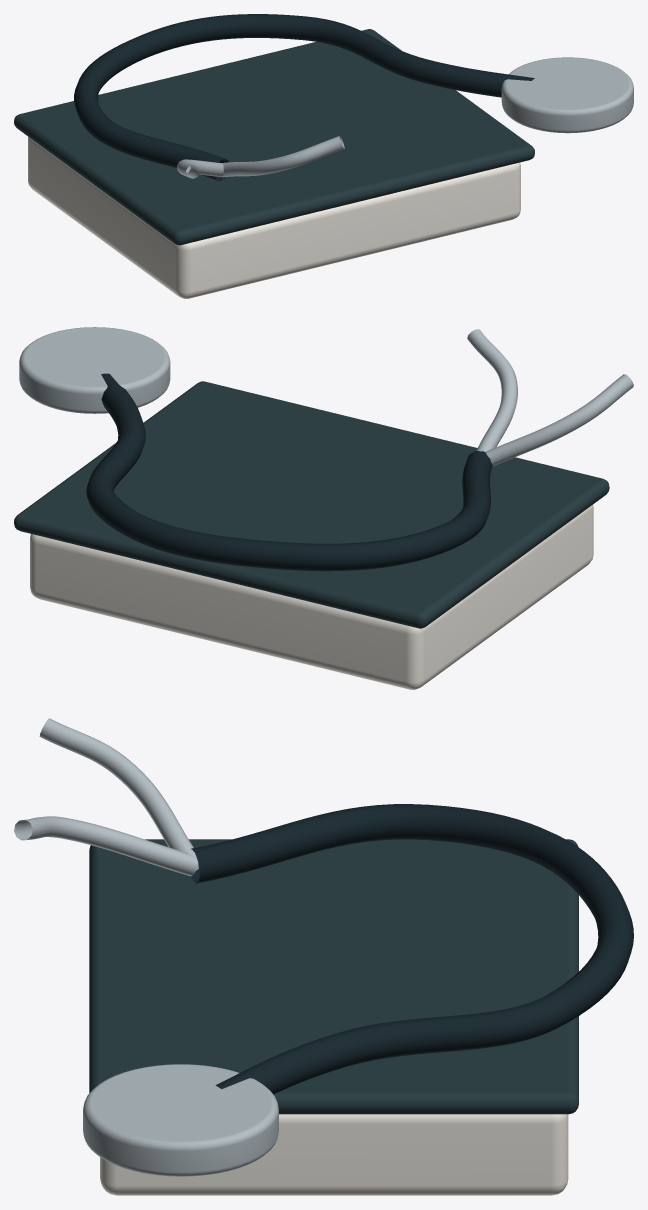
File: entry-medical.glb
3 renders of one model, top to bottom at view 1: azimuth 30°, elevation 25°; view 2: azimuth 150°, elevation 25°; view 3: azimuth 270°, elevation 25°, orthographic. The views are drawn at different scales.
Visible parts, largest first — view 1: Teal notebook cover, Clinical notebook, Stethoscope tube, Stethoscope chest piece, Ear tube left, Ear tube right; view 2: Teal notebook cover, Clinical notebook, Stethoscope tube, Stethoscope chest piece, Ear tube right, Ear tube left; view 3: Teal notebook cover, Stethoscope tube, Clinical notebook, Stethoscope chest piece, Ear tube right, Ear tube left.
Boxes of the visible parts, x1=… form: Teal notebook cover: x1=14, y1=29, x2=534, y2=245; Clinical notebook: x1=28, y1=137, x2=520, y2=298; Stethoscope tube: x1=74, y1=14, x2=534, y2=181; Stethoscope chest piece: x1=501, y1=57, x2=633, y2=133; Ear tube left: x1=222, y1=136, x2=344, y2=177; Ear tube right: x1=177, y1=159, x2=223, y2=178; Teal notebook cover: x1=14, y1=381, x2=609, y2=628; Clinical notebook: x1=30, y1=505, x2=593, y2=689; Stethoscope tube: x1=86, y1=373, x2=492, y2=571; Stethoscope chest piece: x1=19, y1=327, x2=170, y2=413; Ear tube right: x1=485, y1=374, x2=633, y2=466; Ear tube left: x1=467, y1=329, x2=517, y2=451; Teal notebook cover: x1=89, y1=839, x2=578, y2=1114; Stethoscope tube: x1=191, y1=804, x2=633, y2=1094; Clinical notebook: x1=100, y1=1114, x2=568, y2=1195; Stethoscope chest piece: x1=83, y1=1064, x2=278, y2=1176; Ear tube right: x1=39, y1=718, x2=198, y2=870; Ear tube left: x1=14, y1=816, x2=198, y2=876.
Bounding box in the file's own units: 4.4 × 1.35 × 3.3.
